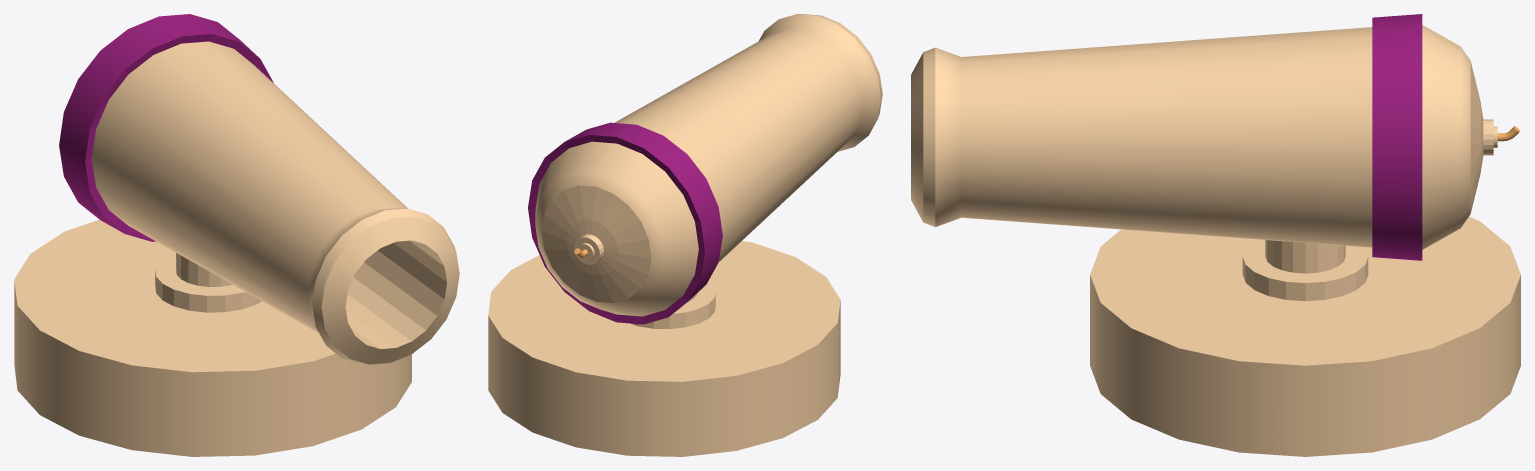
File: Cannon_1.fbx
3 views of the same model, side by side, from view 1: azimuth 30°, elevation 25°; view 2: azimuth 150°, elevation 25°; view 3: azimuth 270°, elevation 25° (orthographic). The views are drawn at different scales.
Parts seen in each view (by area): view 1: Cannon, Base; view 2: Cannon, Base; view 3: Cannon, Base.
Boxes of the visible parts, x1,y1,x2,y2 form: Cannon: (59, 14, 459, 364); Base: (14, 219, 411, 456); Cannon: (528, 14, 882, 324); Base: (488, 241, 840, 456); Cannon: (911, 14, 1519, 260); Base: (1090, 216, 1520, 456).
Bounding box in the file's own units: 1.88 × 1.64 × 2.66.
